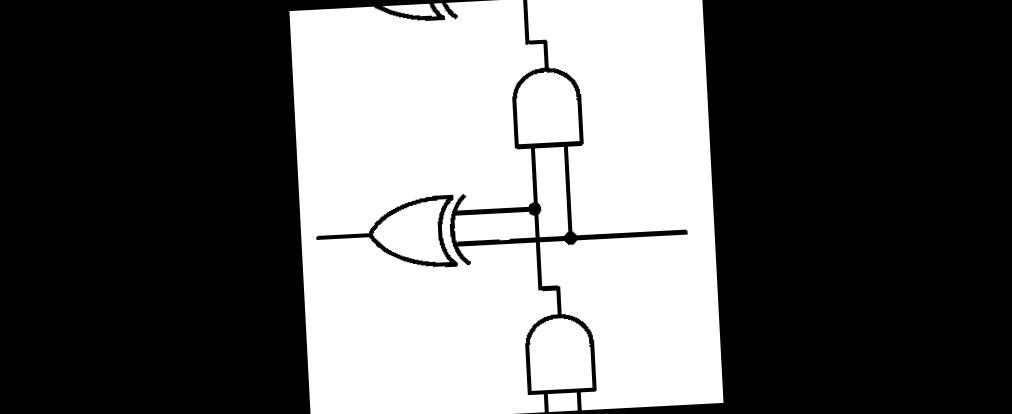and: (500, 294, 618, 414), (492, 47, 592, 168)
xor: (358, 187, 482, 282), (348, 2, 470, 37)
